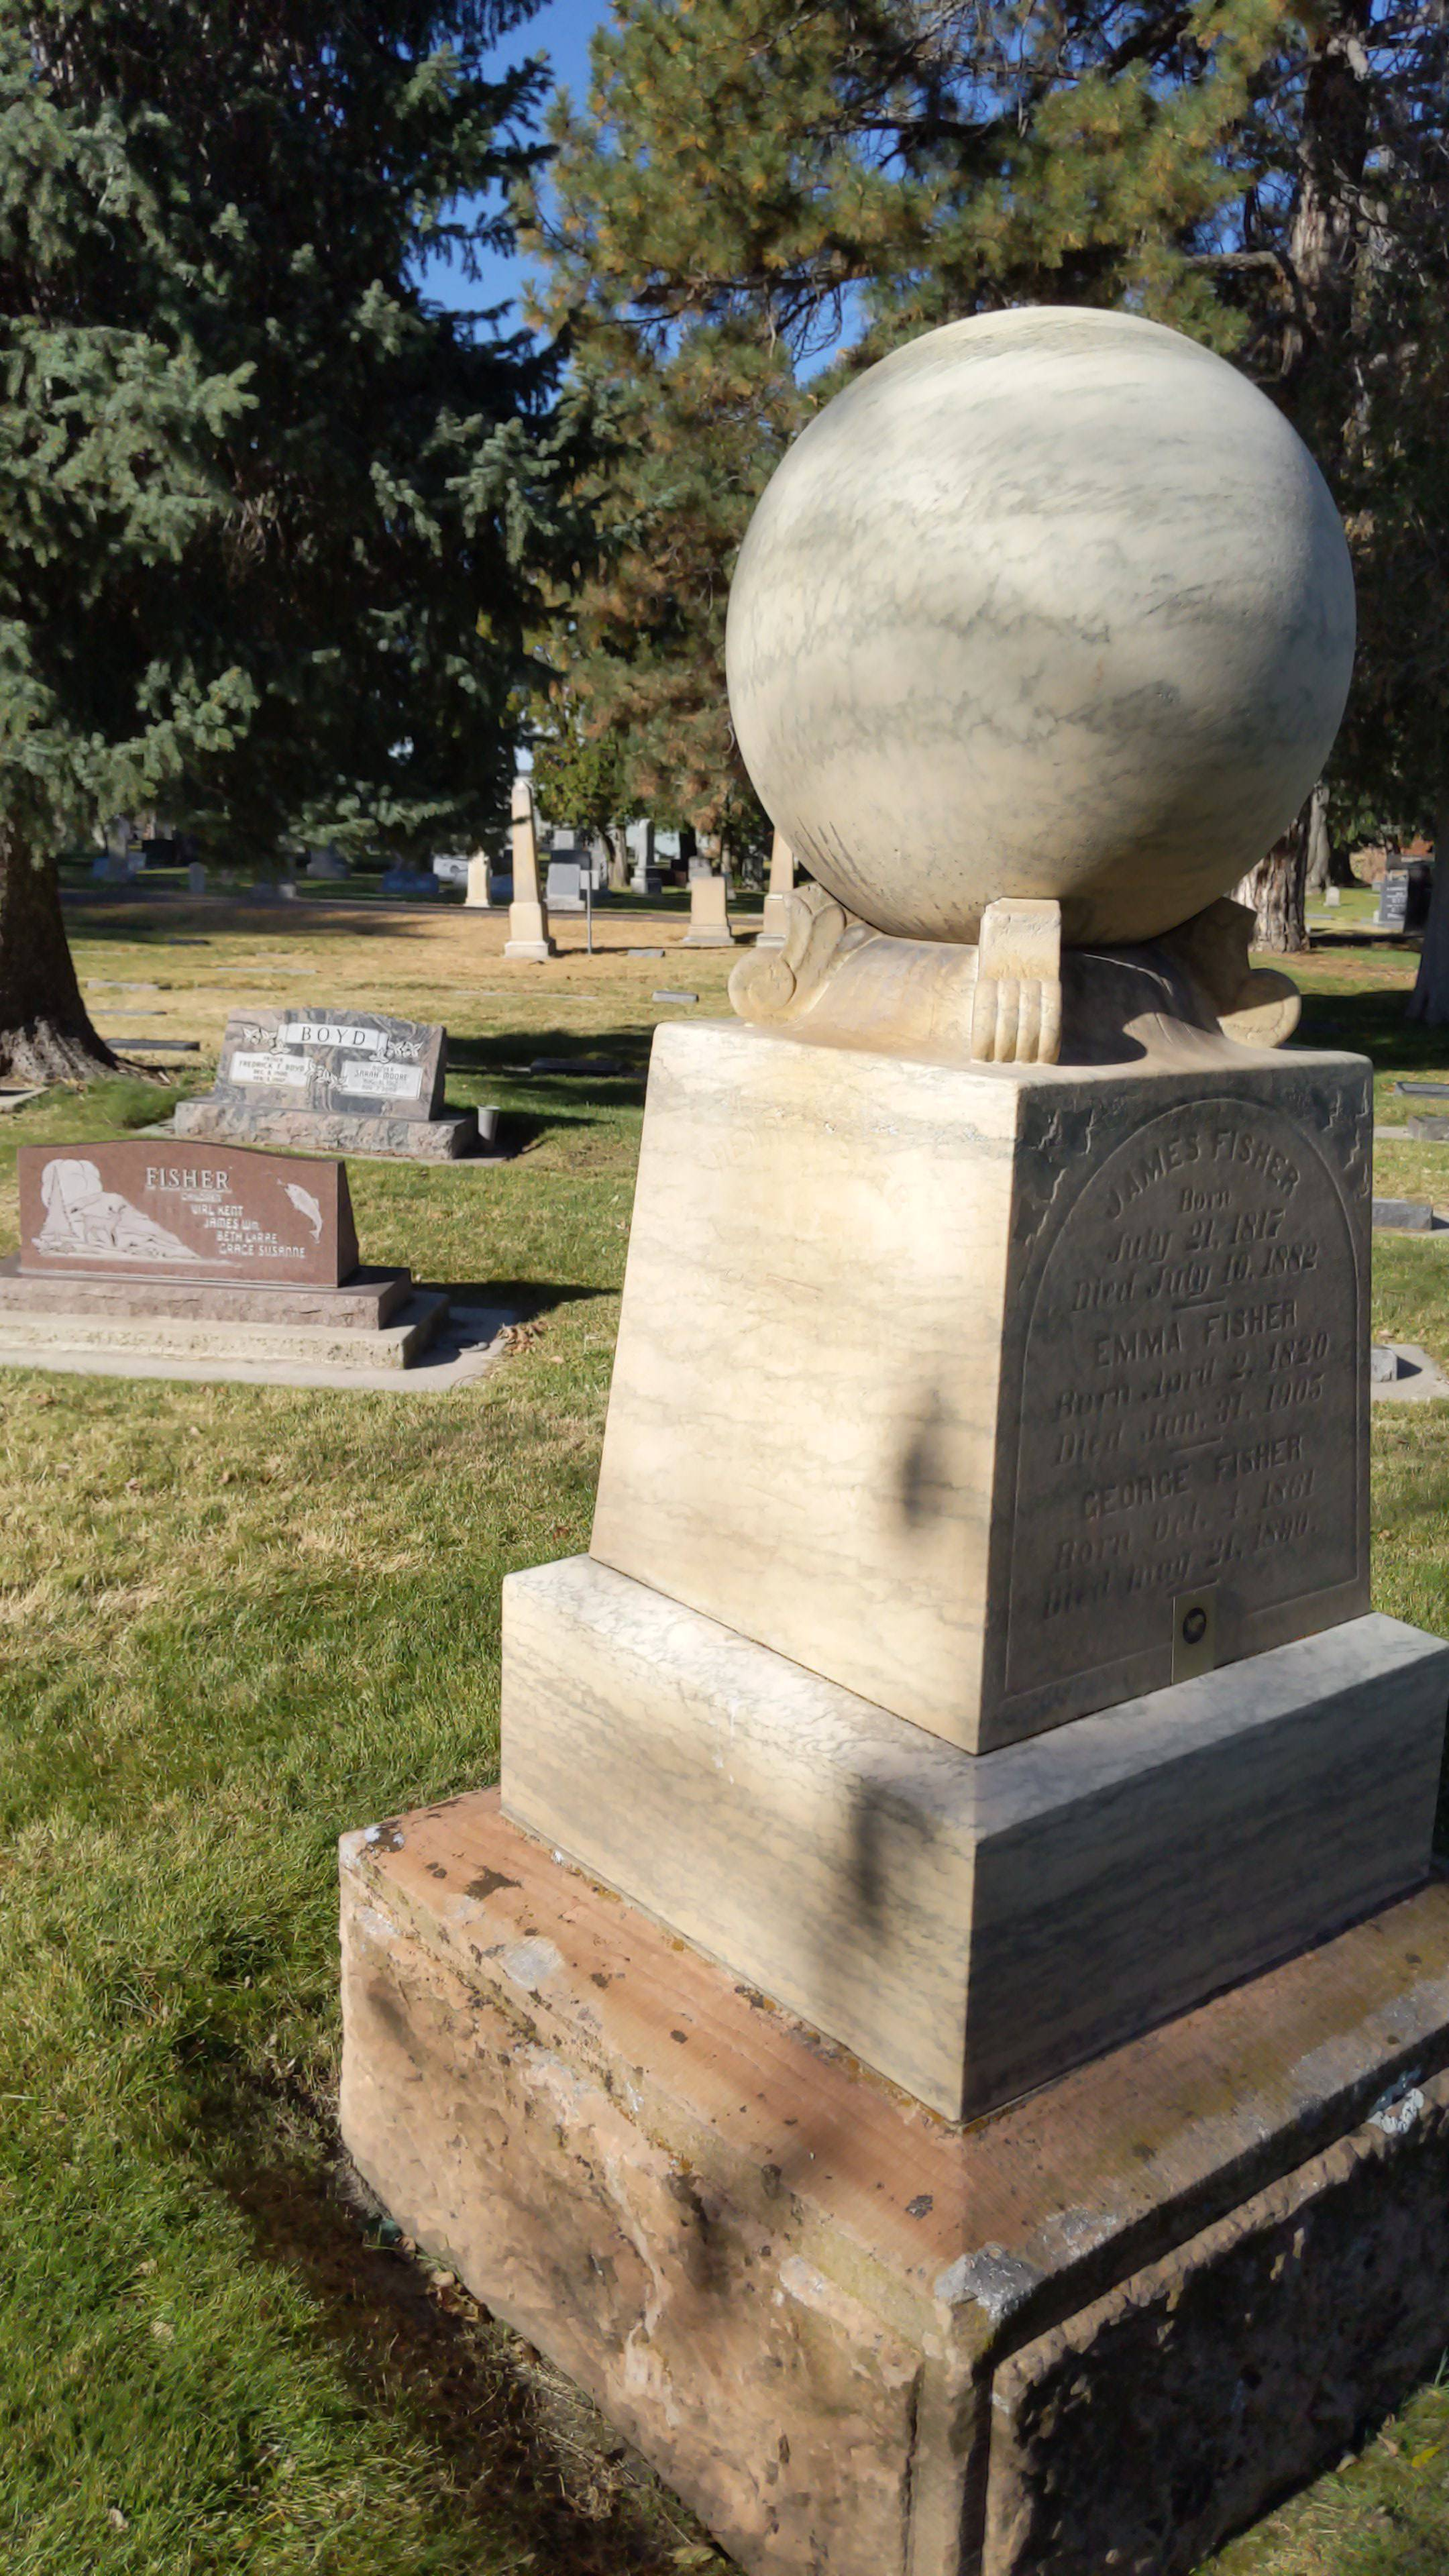obelisk: (501, 295, 1449, 2116)
